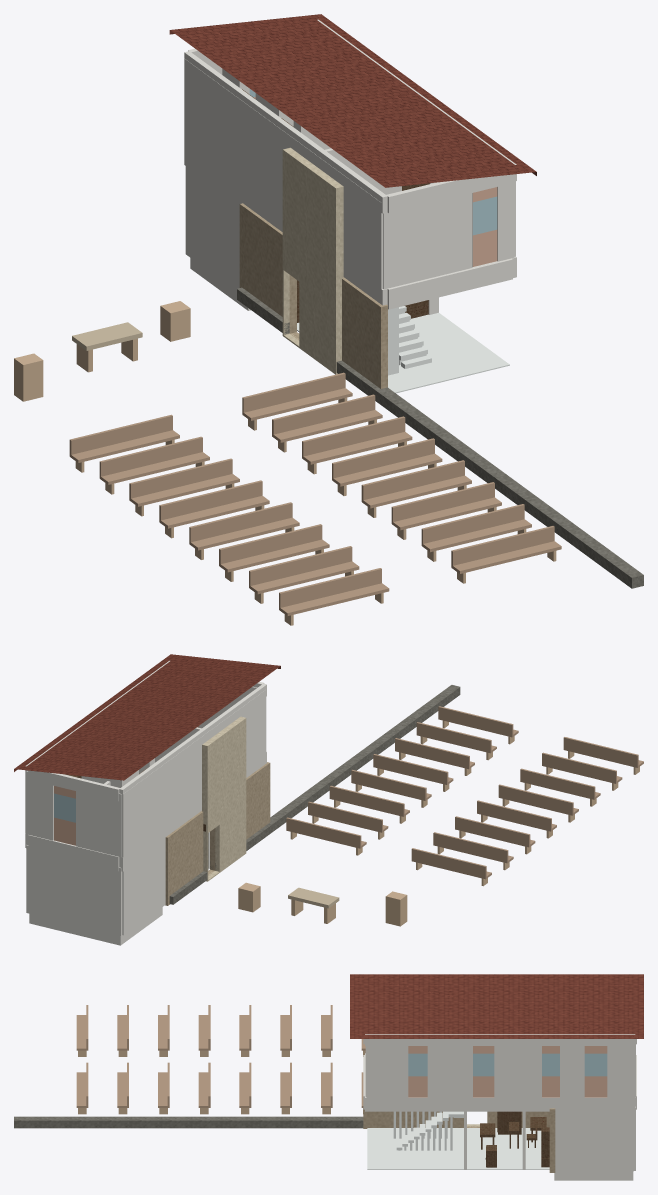
The model's file is EST01.glb.
3 renders of one model, top to bottom at view 1: azimuth 30°, elevation 25°; view 2: azimuth 150°, elevation 25°; view 3: azimuth 270°, elevation 25°, orthographic. The views are drawn at different scales.
Visible parts, largest first — view 1: ADAPT_EST01_NEW_ANNEX_ROOF_FROM_ORIGINAL, U_Walls_ExteriorWest_0, ADAPT_NAVE_PAREDE_LESTE_8_1, U_Walls_ExteriorFront_0, ADAPT_NAVE_RODAPE_LESTE_1, G_Walls_RearExtensionWest_0, G_Floors_ExistingAnnex_REFERENCE_OVERLAY, ADAPT_EST01_INTERFLOOR_S, ADAPT_NAVE_PAREDE_LESTE_8_3, ADAPT_ANEXO_PAREDE_OESTE_1, ADAPT_ANEXO_PAREDE_OESTE_2, ADAPT_EST01_INTERFLOOR_W (+40 smaller); view 2: ADAPT_EST01_NEW_ANNEX_ROOF_FROM_ORIGINAL, U_Walls_ExteriorWest_0, G_Walls_RearExtensionBack_0, ADAPT_NAVE_PAREDE_LESTE_8_1, ADAPT_NAVE_RODAPE_LESTE_1, G_Walls_RearExtensionWest_0, U_Walls_ExteriorBack_0, U_Walls_ExteriorBack_1, ADAPT_NAVE_PAREDE_LESTE_8_3, ADAPT_EST01_INTERFLOOR_N, ADAPT_EST01_INTERFLOOR_W, ADAPT_ANEXO_PAREDE_OESTE_1 (+27 smaller); view 3: ADAPT_EST01_NEW_ANNEX_ROOF_FROM_ORIGINAL, G_Floors_ExistingAnnex_REFERENCE_OVERLAY, G_Walls_RearExtensionEast_0, ADAPT_NAVE_RODAPE_LESTE_1, ADAPT_EST01_INTERFLOOR_E, U_Walls_ExteriorEast_2, U_Walls_ExteriorEast_3, U_Walls_ExteriorEast_4, U_Walls_ExteriorEast_0, U_Walls_ExteriorEast_1, ADAPT_ANEXO_PAREDE_OESTE_3, ADAPT_EST01_EAVES_E (+27 smaller).
Boxes of the visible parts, bbox=[...] form: ADAPT_EST01_NEW_ANNEX_ROOF_FROM_ORIGINAL: bbox=[169, 14, 536, 187]; U_Walls_ExteriorWest_0: bbox=[184, 58, 383, 289]; ADAPT_NAVE_PAREDE_LESTE_8_1: bbox=[282, 147, 343, 308]; U_Walls_ExteriorFront_0: bbox=[383, 193, 472, 289]; ADAPT_NAVE_RODAPE_LESTE_1: bbox=[336, 360, 643, 588]; G_Walls_RearExtensionWest_0: bbox=[185, 166, 239, 291]; G_Floors_ExistingAnnex_REFERENCE_OVERLAY: bbox=[297, 312, 509, 393]; ADAPT_EST01_INTERFLOOR_S: bbox=[387, 258, 512, 309]; ADAPT_NAVE_PAREDE_LESTE_8_3: bbox=[299, 282, 341, 373]; ADAPT_ANEXO_PAREDE_OESTE_1: bbox=[242, 204, 387, 335]; ADAPT_ANEXO_PAREDE_OESTE_2: bbox=[244, 235, 296, 333]; ADAPT_EST01_INTERFLOOR_W: bbox=[184, 145, 387, 305]; ADAPT_EST01_NEW_ANNEX_ROOF_FROM_ORIGINAL: bbox=[14, 654, 280, 780]; U_Walls_ExteriorWest_0: bbox=[121, 690, 266, 856]; G_Walls_RearExtensionBack_0: bbox=[26, 845, 122, 935]; ADAPT_NAVE_PAREDE_LESTE_8_1: bbox=[202, 716, 246, 833]; ADAPT_NAVE_RODAPE_LESTE_1: bbox=[210, 685, 460, 868]; G_Walls_RearExtensionWest_0: bbox=[122, 841, 165, 935]; U_Walls_ExteriorBack_0: bbox=[76, 791, 121, 857]; U_Walls_ExteriorBack_1: bbox=[26, 771, 53, 840]; ADAPT_NAVE_PAREDE_LESTE_8_3: bbox=[214, 805, 246, 871]; ADAPT_EST01_INTERFLOOR_N: bbox=[28, 835, 119, 871]; ADAPT_EST01_INTERFLOOR_W: bbox=[119, 751, 266, 871]; ADAPT_ANEXO_PAREDE_OESTE_1: bbox=[168, 762, 270, 855]; ADAPT_EST01_NEW_ANNEX_ROOF_FROM_ORIGINAL: bbox=[350, 974, 643, 1038]; G_Floors_ExistingAnnex_REFERENCE_OVERLAY: bbox=[367, 1128, 549, 1169]; G_Walls_RearExtensionEast_0: bbox=[555, 1111, 633, 1171]; ADAPT_NAVE_RODAPE_LESTE_1: bbox=[14, 1116, 363, 1128]; ADAPT_EST01_INTERFLOOR_E: bbox=[365, 1096, 635, 1111]; U_Walls_ExteriorEast_2: bbox=[494, 1039, 541, 1097]; U_Walls_ExteriorEast_3: bbox=[427, 1039, 472, 1097]; U_Walls_ExteriorEast_4: bbox=[366, 1039, 408, 1097]; U_Walls_ExteriorEast_0: bbox=[607, 1039, 634, 1097]; U_Walls_ExteriorEast_1: bbox=[560, 1039, 584, 1097]; ADAPT_ANEXO_PAREDE_OESTE_3: bbox=[363, 1109, 463, 1128]; ADAPT_EST01_EAVES_E: bbox=[365, 1034, 635, 1045].
Size of the model in its own units: 15.66 by 7.84 by 27.86.
Materials: 19 (5 with a texture image).
